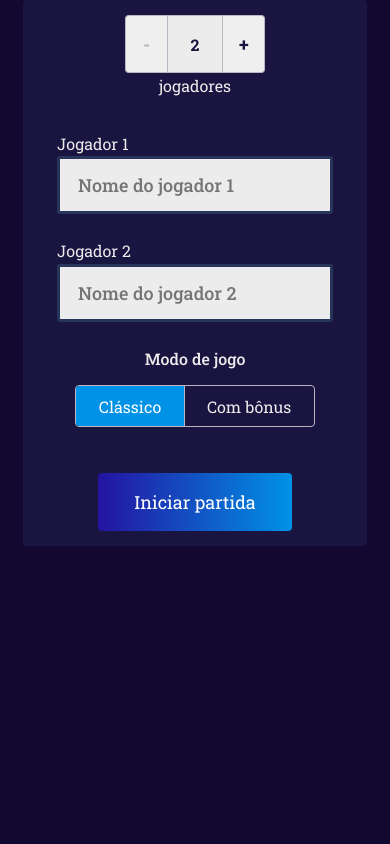
cadastro de jogadores › permite digitar a quantidade de jogadores
The width and height of the screenshot is (390, 844).
Step 1. Replace the text in the number field with "12" → (195,44), box [167, 15, 223, 73]
(page scrolled)
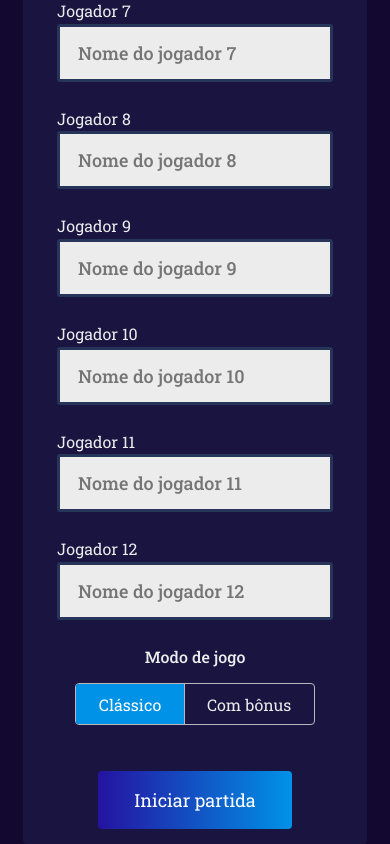
Now the field with placeholder "Nome do jogador 12" is shown, box [57, 562, 333, 620]
